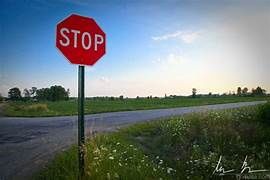stop: (55, 13, 107, 66)
